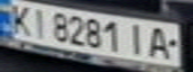1: (100, 19, 124, 53)
2: (66, 12, 87, 47)
8: (45, 10, 72, 44), (81, 16, 106, 51)
A: (142, 25, 178, 61)
I: (124, 20, 151, 56), (24, 6, 51, 38)
K: (0, 1, 36, 35)
